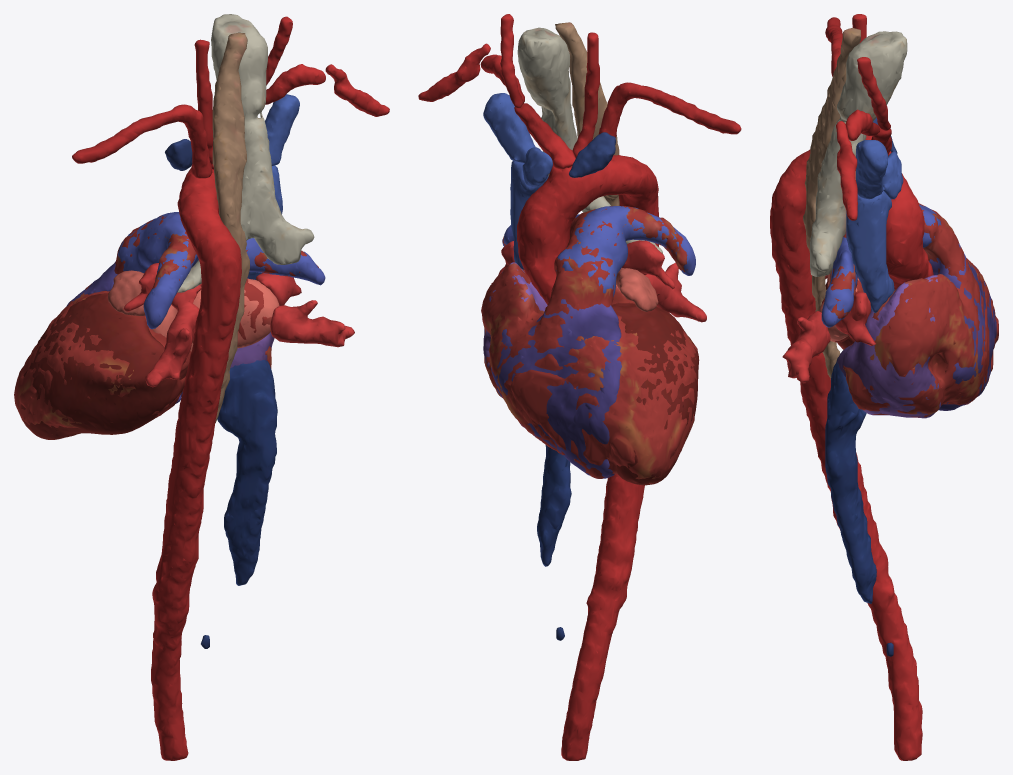
The model's file is cta-cardio.glb.
3 renders of one model, left to right at view 1: azimuth 30°, elevation 25°; view 2: azimuth 150°, elevation 25°; view 3: azimuth 270°, elevation 25°, orthographic. The views are drawn at different scales.
Visible parts, largest first — view 1: aorta, heart_myocardium, trachea, inferior_vena_cava, heart, esophagus, pulmonary_vein, pulmonary_artery, subclavian_artery_left, subclavian_artery_right, heart_atrium_left, brachiocephalic_vein_right (+5 smaller); view 2: heart, aorta, heart_ventricle_right, heart_myocardium, trachea, pulmonary_artery, pulmonary_vein, inferior_vena_cava, subclavian_artery_left, brachiocephalic_vein_left, esophagus, brachiocephalic_vein_right (+7 smaller); view 3: aorta, heart, trachea, inferior_vena_cava, heart_atrium_right, esophagus, superior_vena_cava, pulmonary_vein, heart_ventricle_right, subclavian_artery_right, pulmonary_artery, brachiocephalic_vein_right (+3 smaller).
Part boxes in pixels (x1,y1,x2,y2): aorta: [151, 168, 241, 760]; heart_myocardium: [21, 293, 185, 439]; trachea: [177, 14, 314, 292]; inferior_vena_cava: [201, 359, 277, 648]; heart: [14, 215, 318, 428]; esophagus: [212, 32, 249, 423]; pulmonary_vein: [123, 263, 354, 387]; pulmonary_artery: [117, 212, 325, 329]; subclavian_artery_left: [72, 104, 212, 178]; subclavian_artery_right: [265, 64, 389, 116]; heart_atrium_left: [152, 278, 279, 351]; brachiocephalic_vein_right: [265, 94, 299, 165]; heart: [481, 206, 697, 483]; aorta: [517, 155, 658, 760]; heart_ventricle_right: [491, 299, 621, 478]; heart_myocardium: [612, 303, 699, 485]; trachea: [517, 27, 662, 253]; pulmonary_artery: [502, 206, 695, 296]; pulmonary_vein: [491, 240, 706, 322]; inferior_vena_cava: [537, 445, 571, 640]; subclavian_artery_left: [598, 82, 741, 137]; brachiocephalic_vein_left: [522, 132, 615, 186]; esophagus: [555, 22, 619, 205]; brachiocephalic_vein_right: [483, 93, 535, 162]; aorta: [770, 149, 933, 760]; heart: [822, 203, 998, 417]; trachea: [810, 31, 907, 276]; inferior_vena_cava: [825, 357, 893, 656]; heart_atrium_right: [837, 275, 950, 418]; esophagus: [803, 28, 860, 379]; superior_vena_cava: [846, 190, 894, 313]; pulmonary_vein: [782, 275, 876, 383]; heart_ventricle_right: [929, 243, 996, 410]; subclavian_artery_right: [836, 109, 879, 220]; pulmonary_artery: [821, 204, 941, 327]; brachiocephalic_vein_right: [856, 140, 887, 199].
Size of the model in its own units: 0.1867 by 0.4012 by 0.112.
